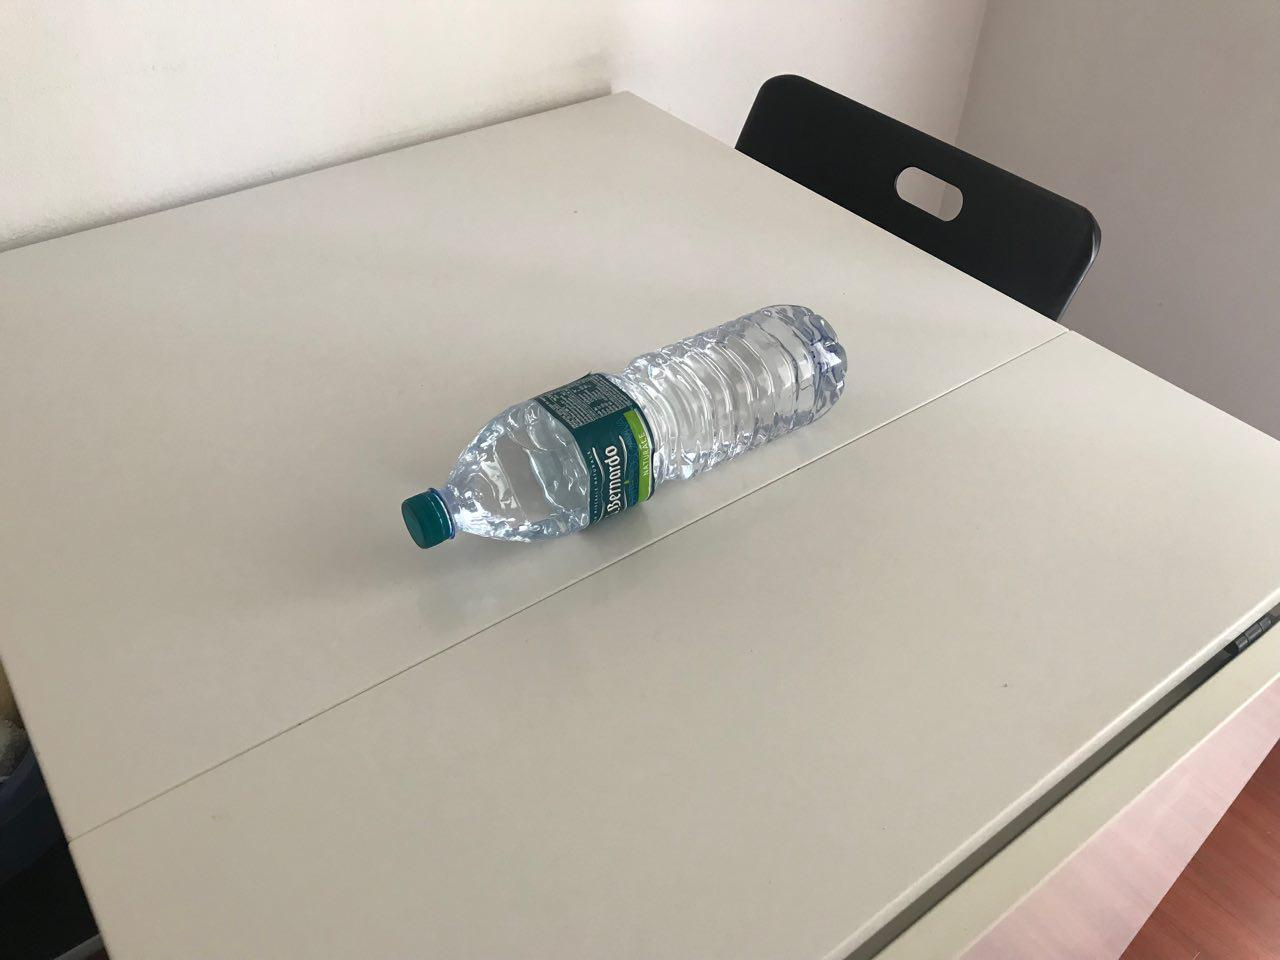san_bernardo: (400, 302, 848, 550)
